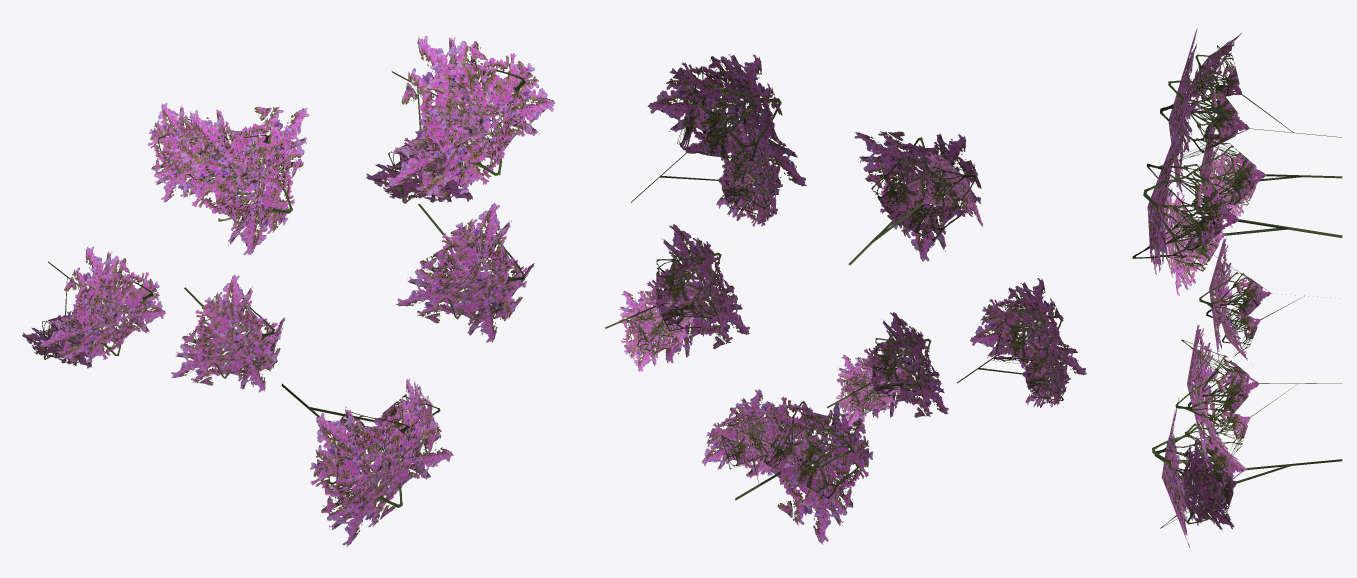
File: Limonium.obj
3 renders of one model, left to right at view 1: azimuth 30°, elevation 25°; view 2: azimuth 150°, elevation 25°; view 3: azimuth 270°, elevation 25°, orthographic. The views are drawn at different scales.
Visible parts, largest first — view 1: Group; view 2: Group; view 3: Group.
Part boxes in pixels (x1=…): Group: x1=22, y1=35, x2=555, y2=547; Group: x1=604, y1=53, x2=1086, y2=544; Group: x1=1132, y1=28, x2=1342, y2=547.
Bounding box in the file's own units: 2.13 × 2.08 × 0.7879.
3 materials, 3 textured.
